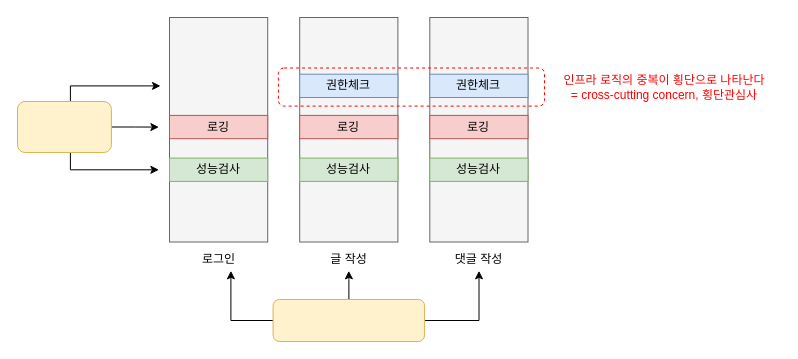
Some shapes in this 798 by 359 pixel diagram are drawn without their labels. Each missing label, with the centre of its shape:
"부가기능 (인프라 로직) = Aspect" belongs at [63,126].
"핵심기능 (biz logic)" belongs at [348,320].
